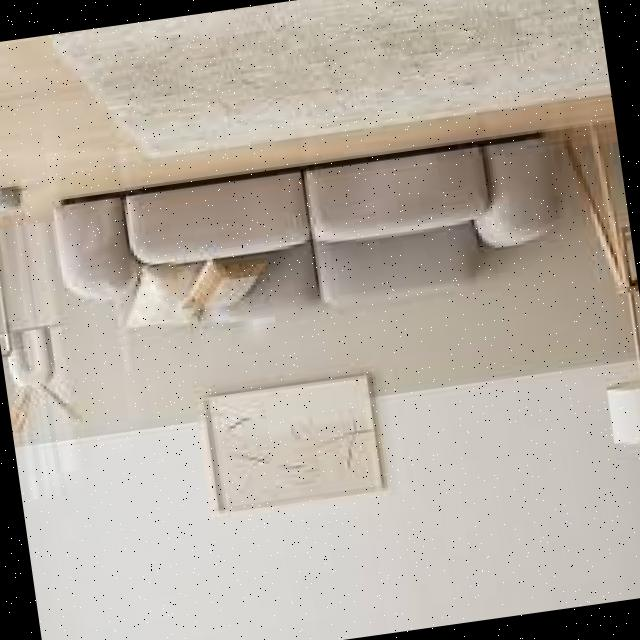Sofa: (20, 97, 602, 386)
